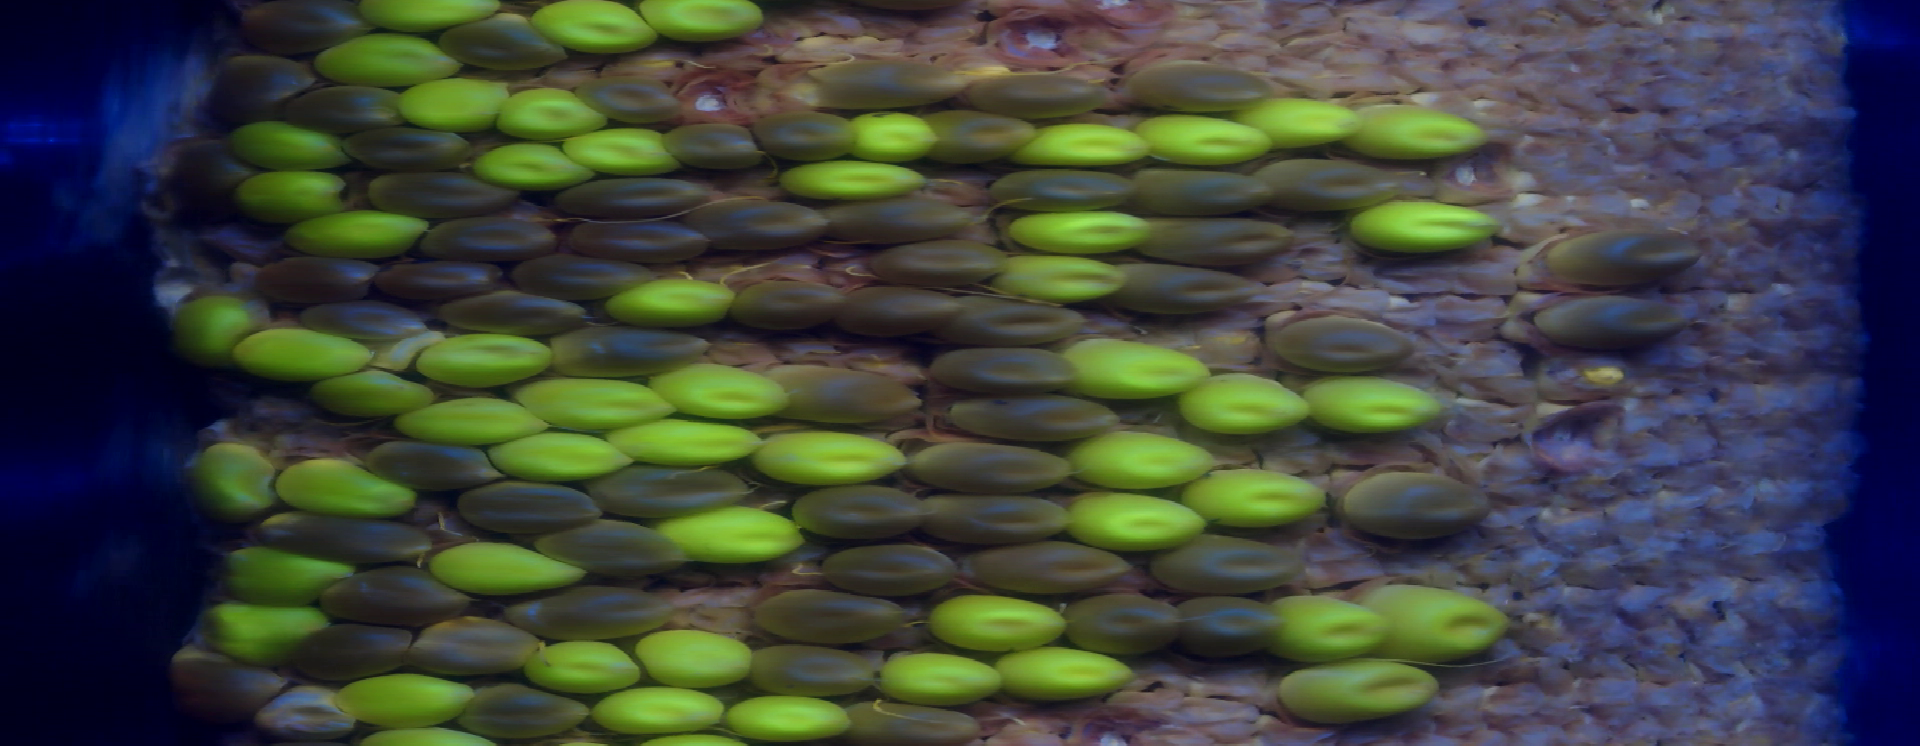fluorescent: (1360, 581, 1515, 669), (1059, 334, 1211, 408), (1171, 367, 1320, 437), (1067, 485, 1210, 555), (1278, 660, 1441, 722), (422, 539, 595, 595), (1185, 468, 1335, 530), (1351, 100, 1501, 162), (1261, 593, 1389, 665), (1134, 110, 1275, 175), (413, 333, 564, 392), (653, 510, 818, 563), (1302, 376, 1449, 436), (274, 458, 424, 517), (310, 32, 459, 91), (518, 376, 681, 430), (202, 601, 339, 664), (189, 440, 283, 529), (920, 593, 1076, 646), (1068, 434, 1221, 488), (517, 1, 662, 58), (225, 546, 359, 608), (490, 428, 640, 480), (240, 322, 369, 383), (989, 648, 1141, 699), (746, 435, 913, 481), (331, 676, 489, 725), (878, 652, 999, 715), (994, 249, 1130, 305), (389, 394, 553, 441), (1014, 208, 1157, 261), (493, 78, 606, 145), (634, 630, 765, 686), (779, 156, 933, 203), (1238, 93, 1360, 152), (282, 213, 432, 261), (310, 365, 448, 416), (1346, 205, 1498, 251), (659, 367, 792, 420), (1021, 120, 1153, 170), (396, 76, 508, 135), (171, 292, 258, 367), (470, 138, 591, 192), (227, 119, 350, 171), (722, 697, 860, 744), (528, 641, 645, 695), (587, 688, 726, 734), (227, 168, 347, 220), (602, 424, 764, 462), (561, 122, 682, 173), (601, 279, 731, 323), (633, 1, 774, 38), (842, 111, 947, 160), (365, 1, 509, 29), (359, 726, 531, 746)
nonfluorescent: (1336, 465, 1493, 541), (1152, 529, 1309, 597), (1547, 229, 1702, 296), (531, 514, 688, 581), (433, 5, 576, 77), (944, 285, 1089, 352), (763, 364, 927, 421), (947, 393, 1127, 443), (264, 510, 429, 563), (922, 436, 1071, 495), (1128, 162, 1280, 219), (760, 588, 909, 647), (1256, 156, 1401, 216), (831, 279, 962, 345), (451, 478, 604, 534), (170, 650, 289, 723), (1544, 290, 1700, 344), (1108, 261, 1264, 315), (972, 541, 1138, 592), (400, 615, 542, 673), (938, 341, 1089, 394), (328, 568, 469, 626), (582, 464, 746, 513), (1133, 62, 1277, 118), (922, 489, 1073, 541), (802, 58, 972, 104), (991, 167, 1140, 219), (742, 648, 890, 701), (1280, 318, 1417, 375), (213, 49, 321, 120), (546, 326, 719, 370), (1063, 593, 1182, 657), (361, 169, 525, 214), (730, 277, 851, 337), (1135, 216, 1303, 258), (509, 256, 666, 301), (1176, 593, 1287, 657), (916, 108, 1041, 164), (158, 146, 258, 216), (507, 589, 680, 630), (376, 439, 504, 492), (566, 217, 715, 262), (240, 1, 384, 48), (820, 543, 958, 592), (293, 624, 416, 677), (251, 255, 396, 300), (422, 216, 556, 265), (966, 73, 1116, 116), (456, 688, 600, 733), (680, 205, 846, 243), (291, 300, 430, 345), (793, 488, 934, 532), (446, 290, 588, 333), (334, 127, 480, 167), (839, 706, 980, 746), (824, 200, 973, 238), (876, 243, 1015, 283), (560, 176, 702, 214), (283, 88, 415, 127), (752, 111, 858, 158), (373, 261, 513, 296), (667, 121, 765, 167), (576, 83, 683, 122)
